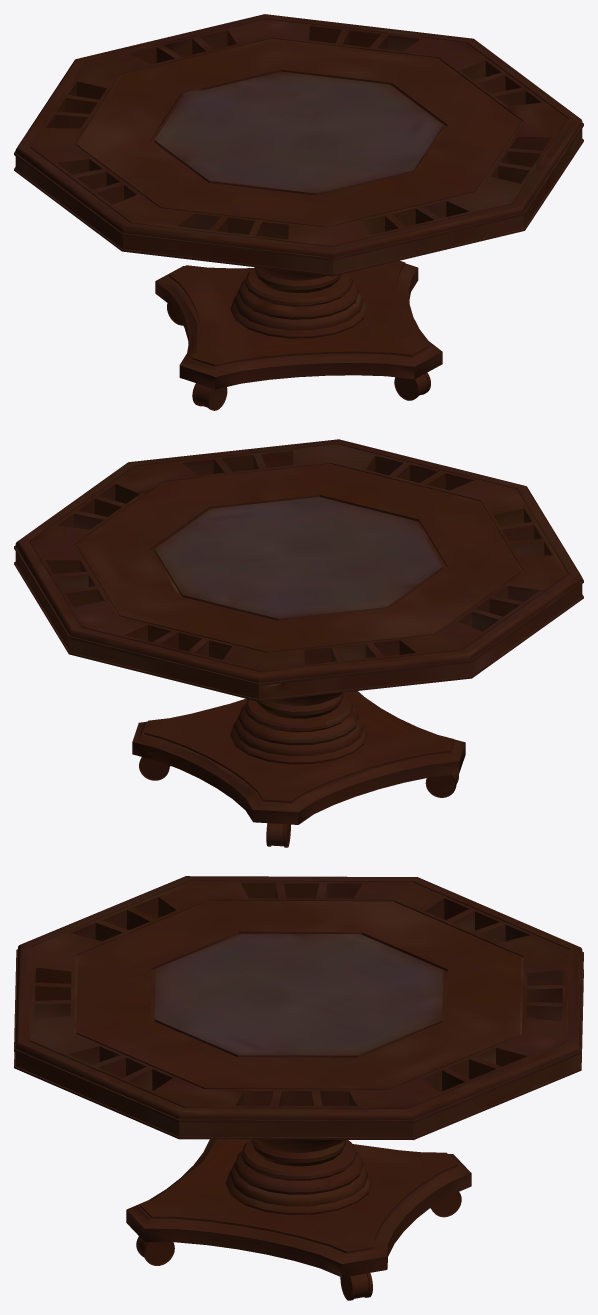
The model's file is poker-table--3.gltf.
3 views of the same model, one above another, from view 1: azimuth 30°, elevation 25°; view 2: azimuth 150°, elevation 25°; view 3: azimuth 270°, elevation 25° (orthographic). The views are drawn at different scales.
Visible parts, largest first — view 1: poker_table; view 2: poker_table; view 3: poker_table.
Part boxes in pixels (box(x1,y1,x2,y2)): poker_table: box(14, 14, 583, 410); poker_table: box(14, 439, 583, 847); poker_table: box(14, 876, 583, 1300).
Size of the model in its own units: 1.7 by 0.8001 by 1.7.
1 material, 1 textured.
